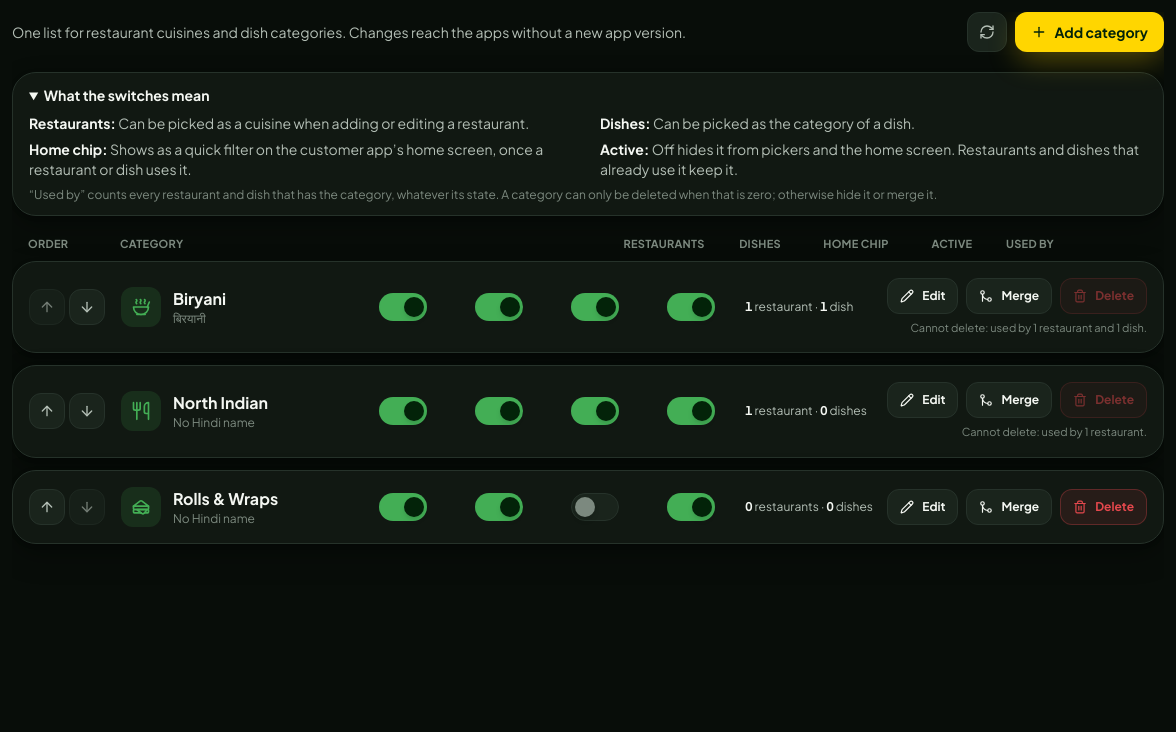
Scenario: order › a failed save keeps the admin’s order and says why
Click the button named "Move North Indian up": (47, 411) [29,393,65,429]
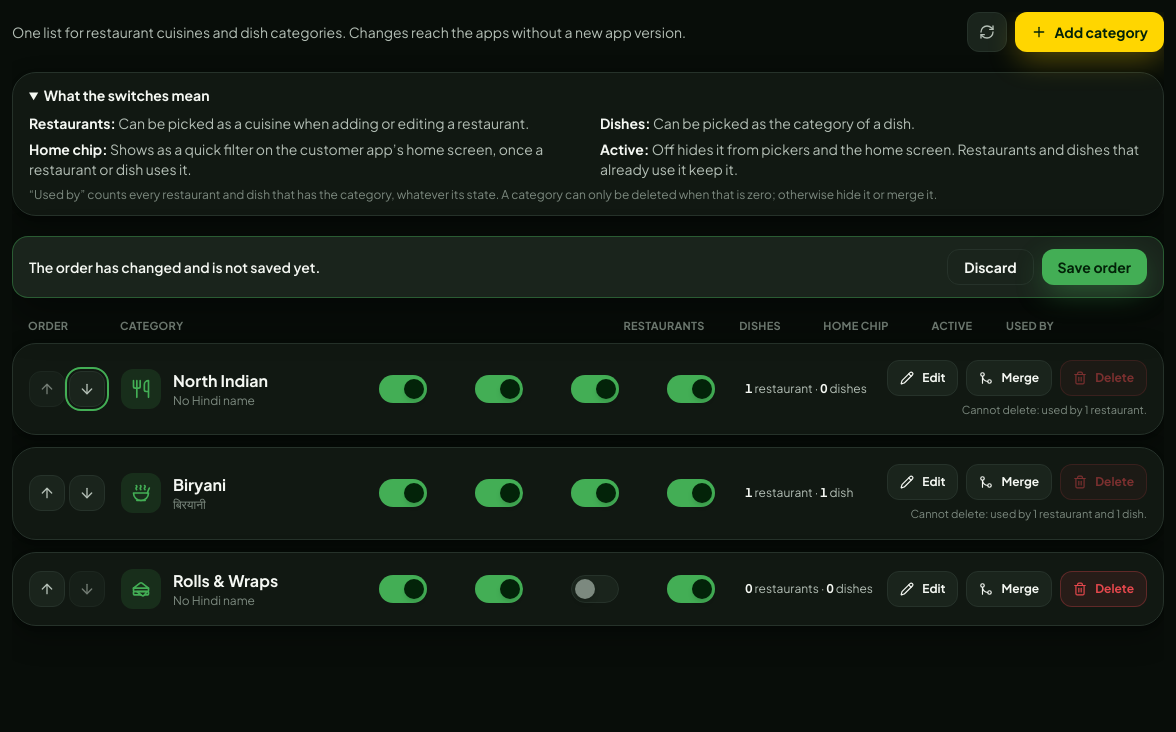
Click the button "Save order": (1094, 267) [1042,249,1147,285]
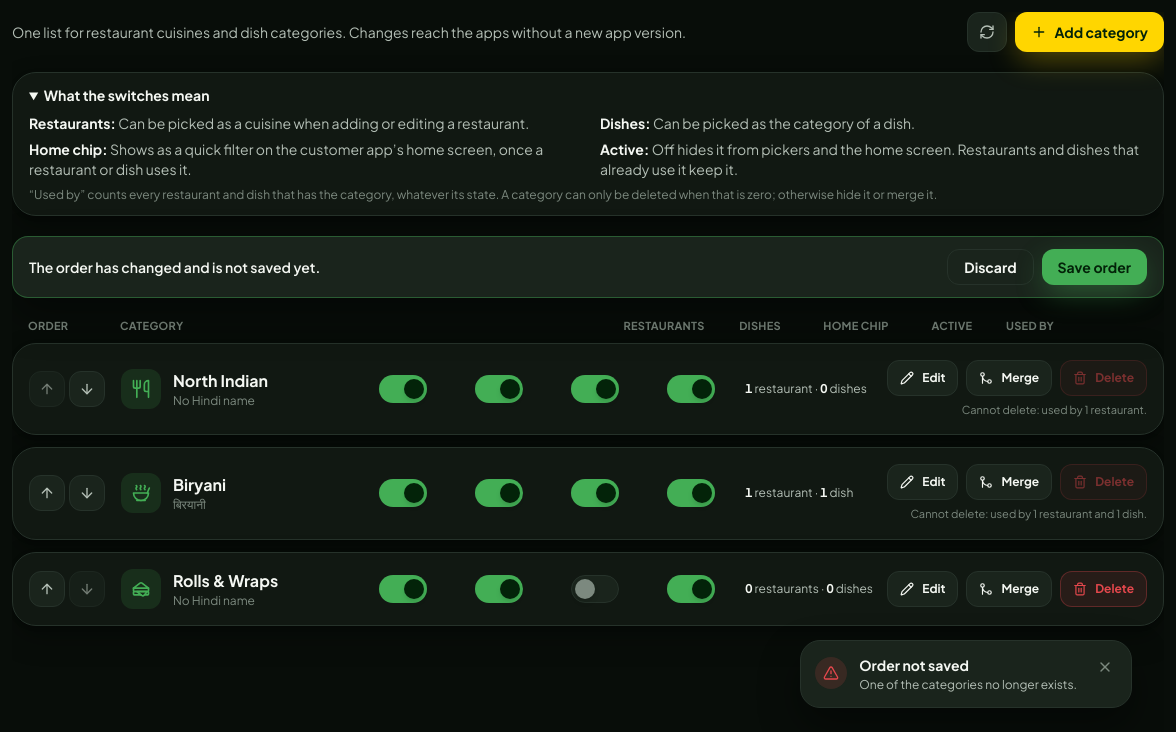
Expected: the text "North Indian" is shown, [173,369,268,393]
Expected: the text "One of the categories no longer exists." is shown, [859,677,1077,693]
